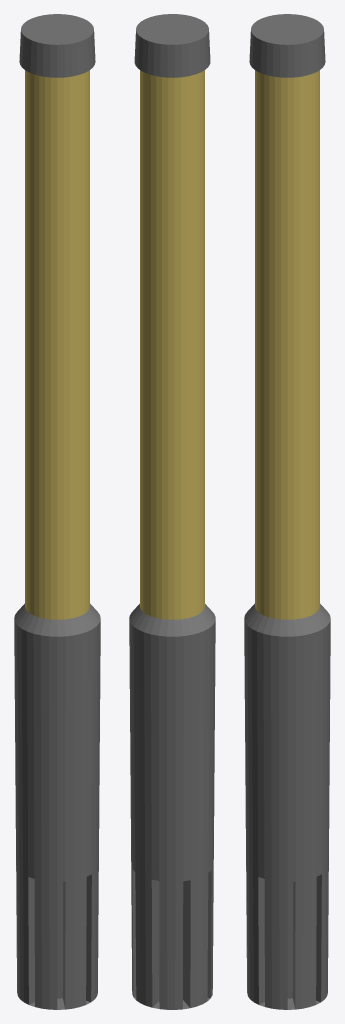
The model's file is lamp1.gltf.
The picture shows the model from 3 angles, left to right: view 1: azimuth 90°, elevation 25°; view 2: azimuth 150°, elevation 25°; view 3: azimuth 270°, elevation 25°; orthographic projection.
Visible parts, largest first — view 1: 柱体, 柱体.001; view 2: 柱体, 柱体.001; view 3: 柱体, 柱体.001.
Part boxes in pixels (<box>): 柱体: <box>14,14,100,1009</box>; 柱体.001: <box>25,70,89,619</box>; 柱体: <box>129,14,215,1009</box>; 柱体.001: <box>140,70,204,619</box>; 柱体: <box>244,14,330,1009</box>; 柱体.001: <box>255,70,319,619</box>.
Bounding box in the file's own units: 0.2073 × 2.55 × 0.2073.
